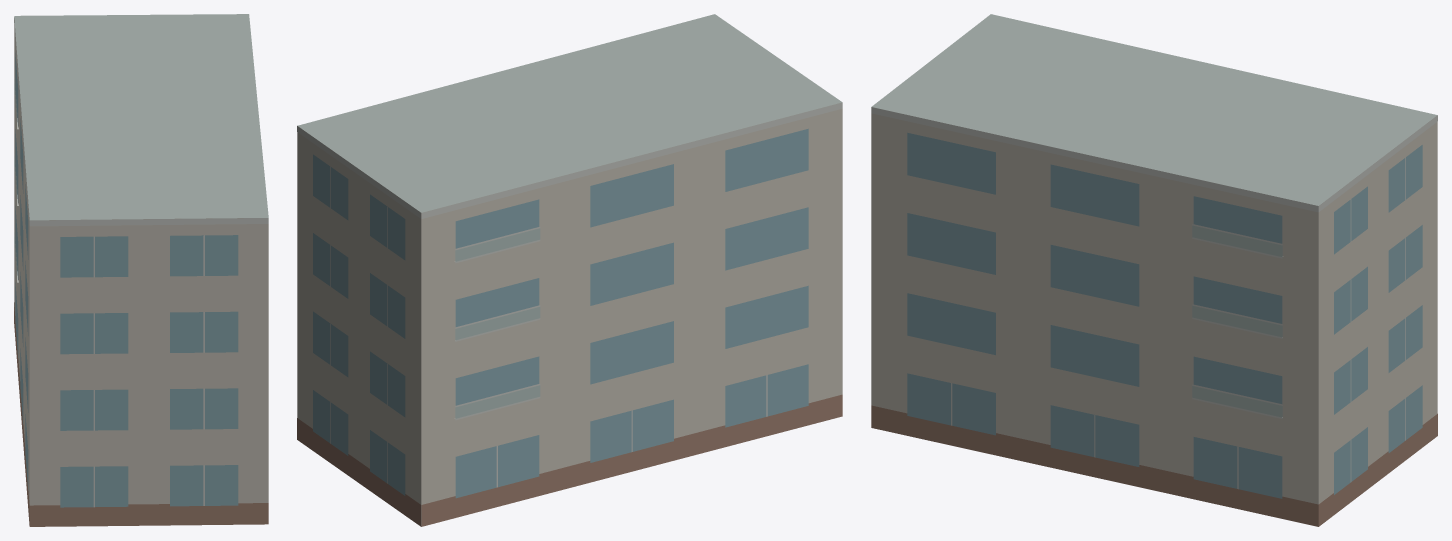
File: survey-upis-32870075.glb
3 views of the same model, side by side, from view 1: azimuth 30°, elevation 25°; view 2: azimuth 150°, elevation 25°; view 3: azimuth 270°, elevation 25° (orthographic). The views are drawn at different scales.
Parts seen in each view (by area): view 1: survey-upis-32870075.tmp; view 2: survey-upis-32870075.tmp; view 3: survey-upis-32870075.tmp.
Boxes of the visible parts, x1=… form: survey-upis-32870075.tmp: x1=14, y1=14, x2=268, y2=526; survey-upis-32870075.tmp: x1=297, y1=14, x2=842, y2=526; survey-upis-32870075.tmp: x1=871, y1=14, x2=1437, y2=526.
Size of the model in its own units: 15.67 by 12.2 by 19.53.
